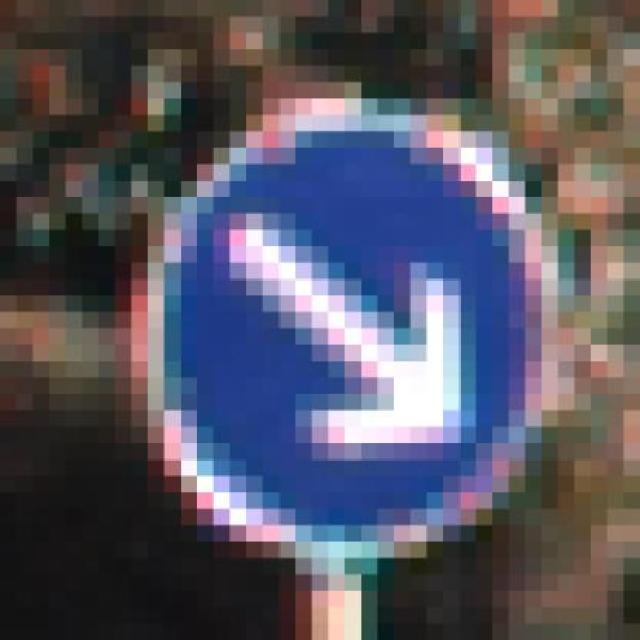Keep-Right: (98, 98, 608, 574)
